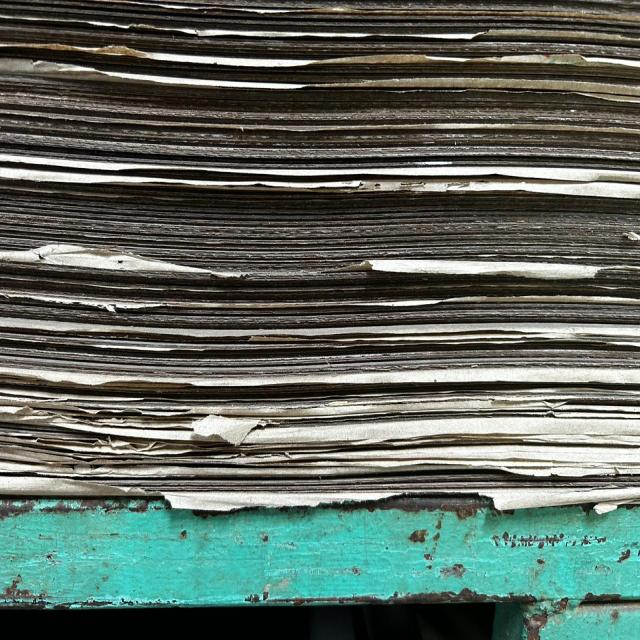sheet: (0, 42, 640, 75), (0, 167, 640, 195), (0, 72, 640, 98), (0, 102, 638, 128), (3, 18, 635, 44), (0, 200, 640, 223), (2, 482, 640, 505), (2, 272, 640, 295), (2, 443, 638, 465), (0, 142, 640, 163), (0, 180, 640, 200), (2, 0, 640, 20), (1, 230, 640, 248), (1, 390, 640, 407), (2, 370, 640, 387), (0, 212, 640, 228), (2, 307, 640, 323), (0, 352, 640, 366), (1, 424, 640, 438), (1, 130, 640, 143), (0, 335, 638, 348), (0, 252, 636, 265)
